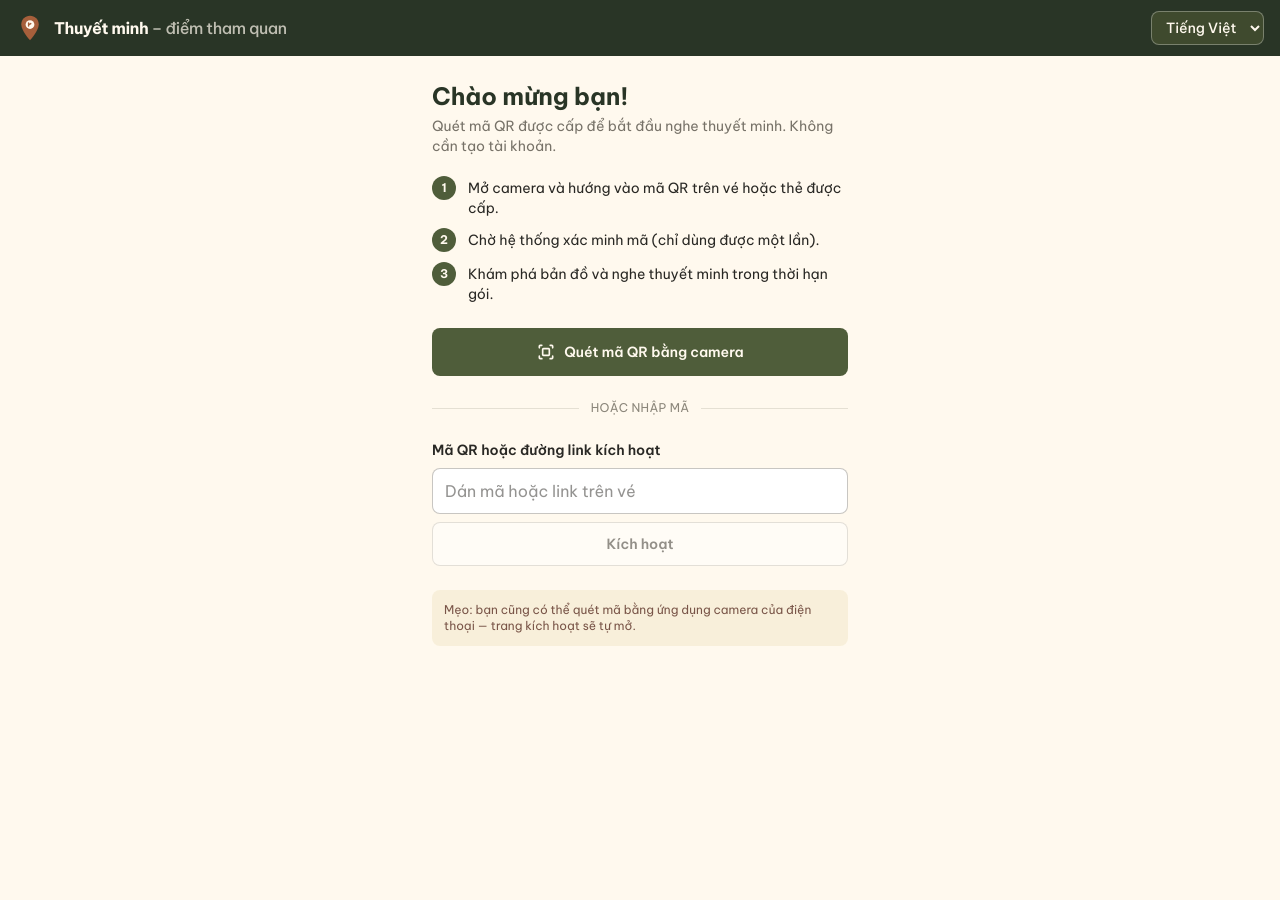
Test: Scan screen (UC02 step 1) › rejects manual input that contains no activation code
Type "hi" into the field labelled "Mã QR hoặc đường link kích hoạt" at {"x": 640, "y": 491}, box [432,468,848,514]
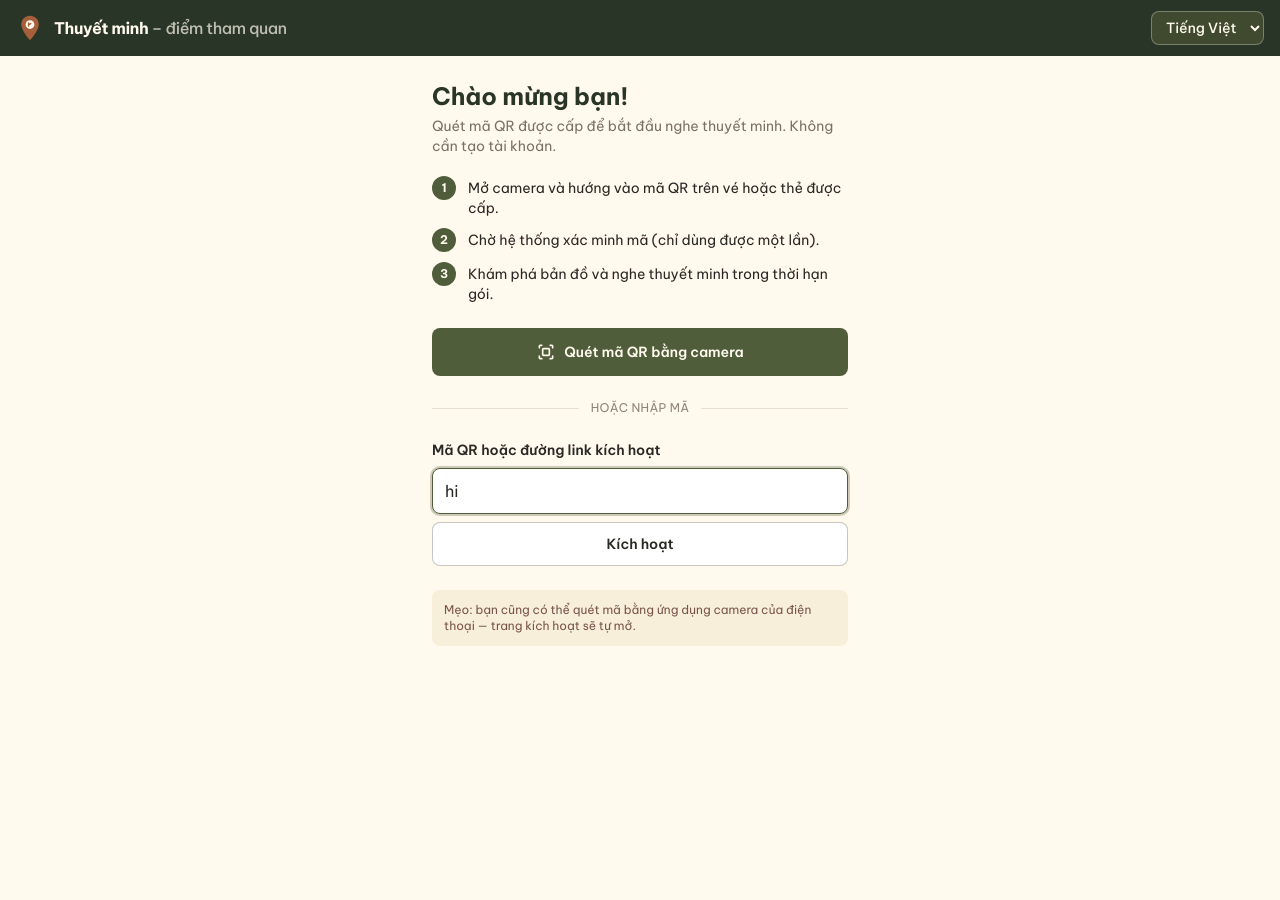
Click the button "Kích hoạt" at {"x": 640, "y": 544}, box [432,522,848,566]
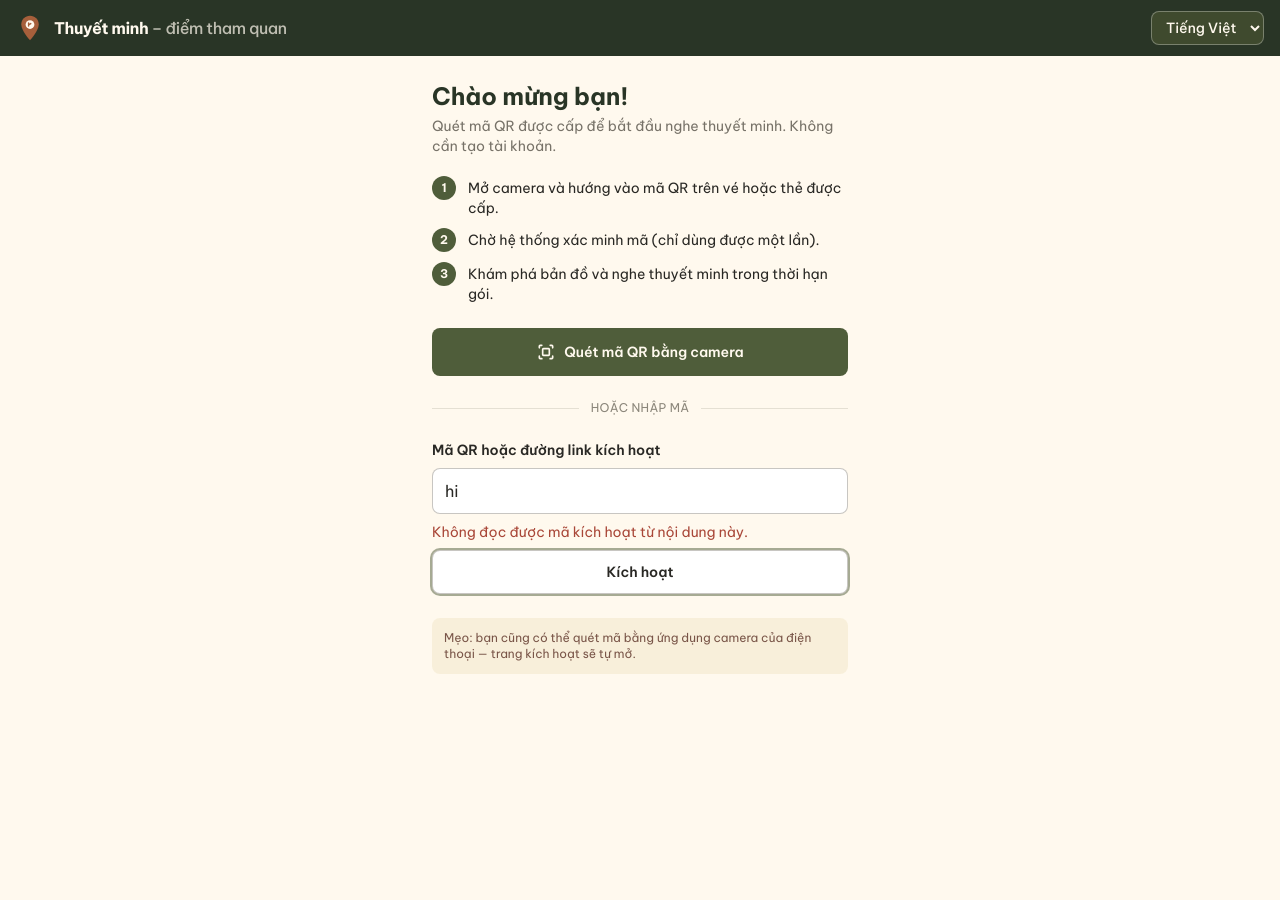
Check: the text "Không đọc được mã kích hoạt từ nội dung này." is shown, box [432,523,748,541]
